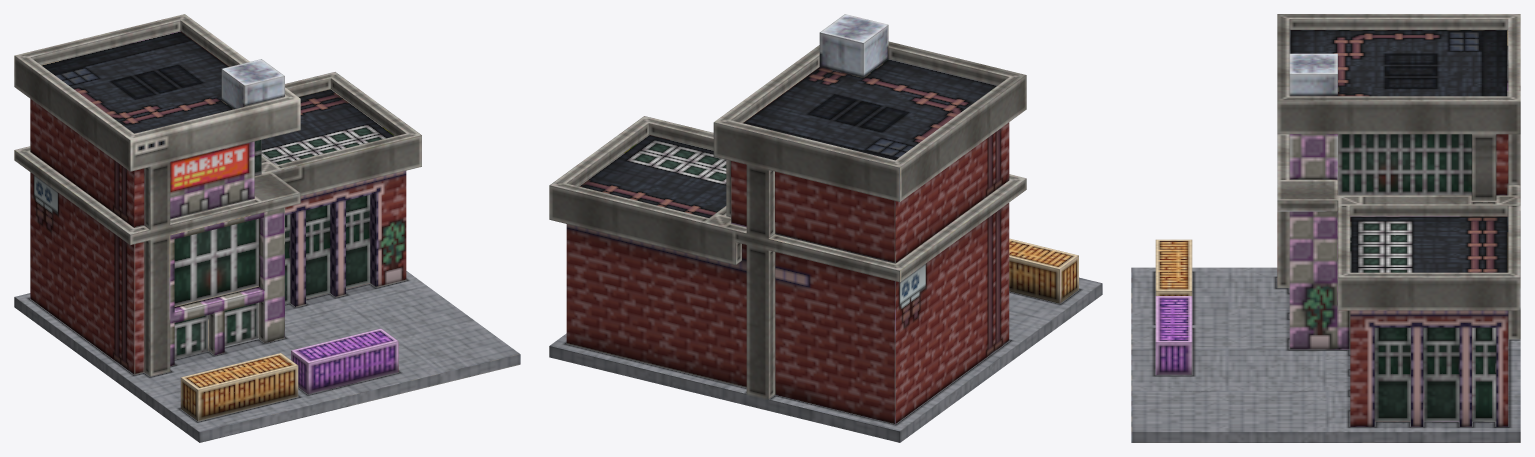
The model's file is Market.1.fbx.
3 views of the same model, side by side, from view 1: azimuth 30°, elevation 25°; view 2: azimuth 150°, elevation 25°; view 3: azimuth 270°, elevation 25° (orthographic). The views are drawn at different scales.
Visible parts, largest first — view 1: Untitled; view 2: Untitled; view 3: Untitled.
Boxes of the visible parts, x1=… form: Untitled: x1=14, y1=14, x2=520, y2=442; Untitled: x1=549, y1=14, x2=1102, y2=442; Untitled: x1=1131, y1=14, x2=1520, y2=442.
Size of the model in its own units: 320 by 260 by 320.
